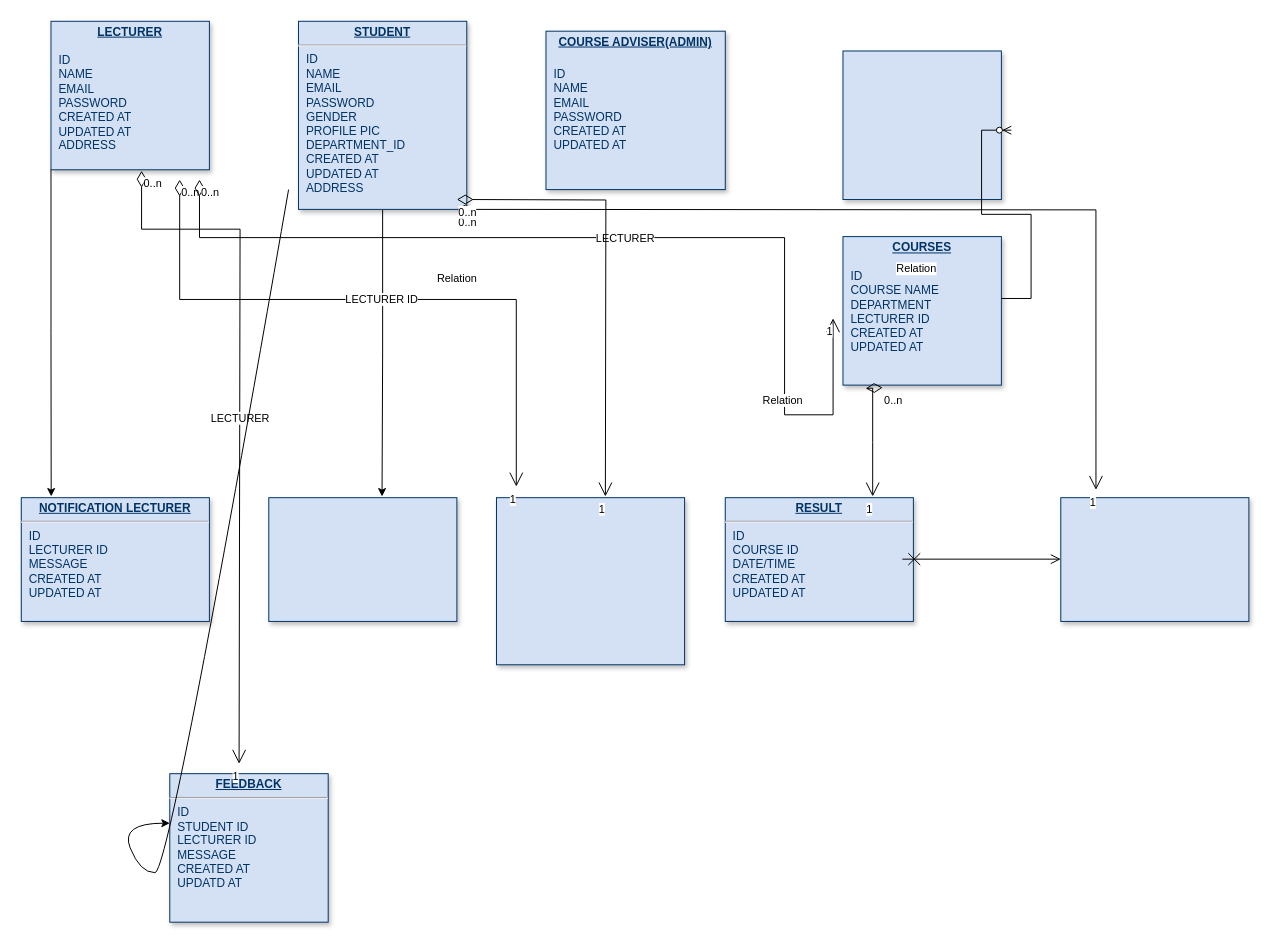
The diagram is 1272 pixels wide and 946 high, and some of its shapes have lost their labels. The shapes that lost their labels are listed below. From the top down, each one's centre as x and y in pixels, then its label:
the point at 922,126: DEPARTMENT ID DEPARTMENT NAME CREATED AT UPDATED AT
the point at 363,560: NOTIFICATION STUDENT ID STUDENT ID MESSAGE CREATED AT UPDATED AT
the point at 1155,560: GRADING ID STUDENT ID RESULT ID STATUS CREATED AT UPDATED AT
the point at 591,582: TEMPORARY WITHDRAWAL ID DTUDENT ID LECTURER ID STATUS CREATED AT UPDATED AT
